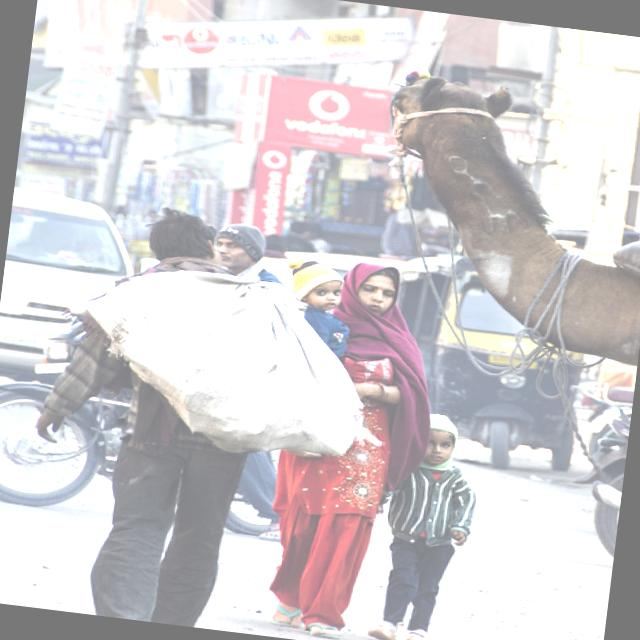Vehicle: (0, 303, 293, 538), (0, 185, 142, 393), (572, 399, 632, 491), (580, 469, 624, 566)
